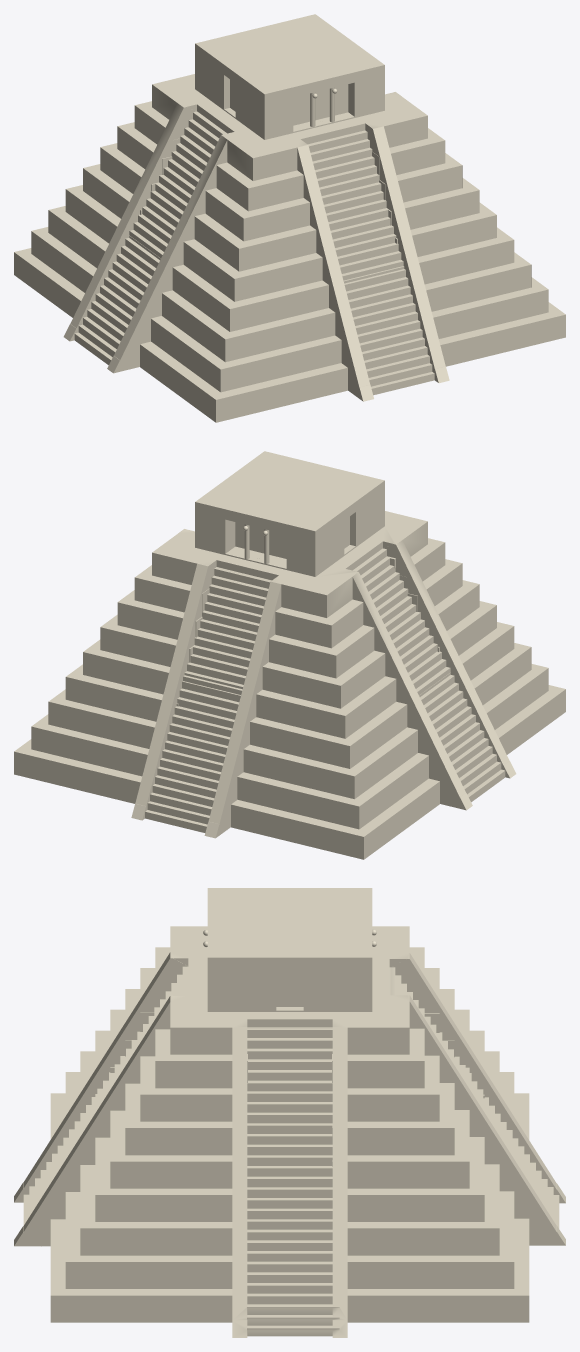
File: chichen.glb
3 views of the same model, one above another, from view 1: azimuth 30°, elevation 25°; view 2: azimuth 150°, elevation 25°; view 3: azimuth 270°, elevation 25° (orthographic). The views are drawn at different scales.
Visible parts, largest first — view 1: Chichen_Itza; view 2: Chichen_Itza; view 3: Chichen_Itza.
Boxes of the visible parts, box(x1,y1,x2,y2) form: Chichen_Itza: box(14, 14, 565, 422); Chichen_Itza: box(14, 451, 565, 859); Chichen_Itza: box(14, 888, 565, 1337).
Size of the model in its own units: 50.23 by 30 by 50.23.
